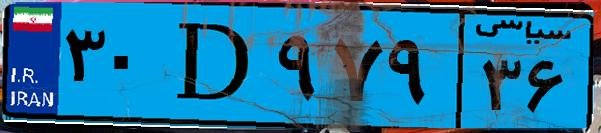0: (110, 28, 158, 98)
3: (57, 26, 110, 100), (475, 38, 525, 113)
6: (525, 38, 570, 115)
7: (330, 28, 385, 110)
9: (270, 28, 330, 110), (385, 28, 445, 110)
D: (158, 12, 270, 120)
